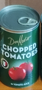tomatoes: (1, 4, 40, 88)
